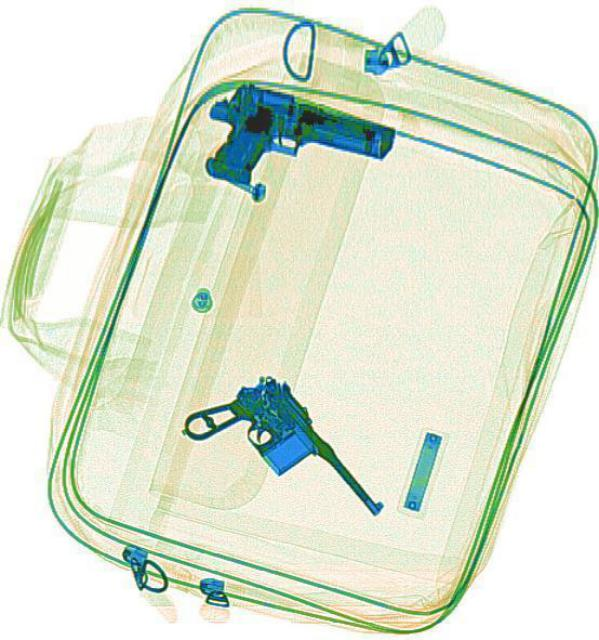Gun: (175, 354, 384, 572), (187, 71, 398, 225)
